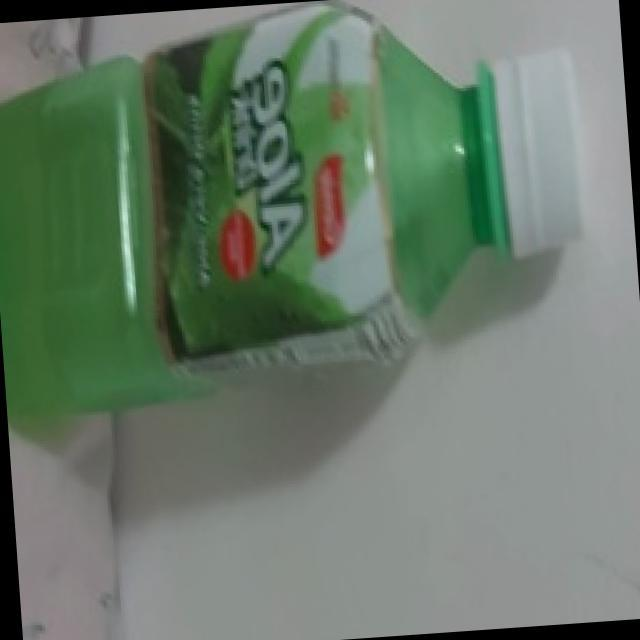good: (0, 2, 620, 450)
